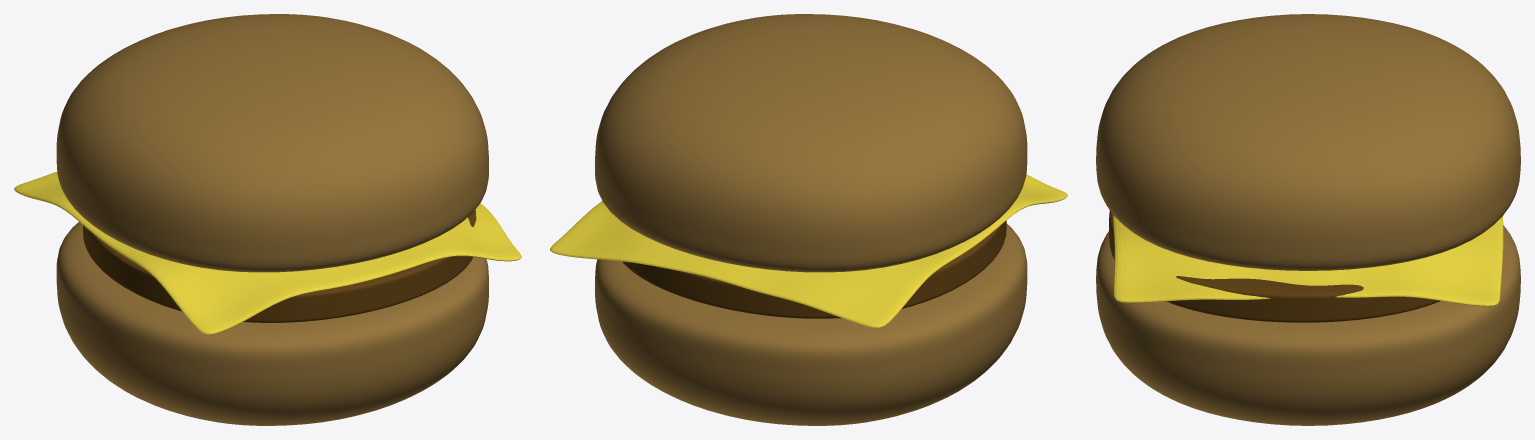
File: HamburgerWithCompression.glb
The picture shows the model from 3 angles, left to right: view 1: azimuth 30°, elevation 25°; view 2: azimuth 150°, elevation 25°; view 3: azimuth 270°, elevation 25°; orthographic projection.
Visible parts, largest first — view 1: Top Bun, Bottom Bun, Cheese, Patty; view 2: Top Bun, Bottom Bun, Cheese, Patty; view 3: Top Bun, Bottom Bun, Cheese, Patty.
Part boxes in pixels (<box>): Top Bun: <box>56,14,488,272</box>; Bottom Bun: <box>56,222,488,425</box>; Cheese: <box>14,171,521,334</box>; Patty: <box>83,210,476,322</box>; Top Bun: <box>595,14,1027,272</box>; Bottom Bun: <box>595,223,1027,425</box>; Cheese: <box>550,174,1067,328</box>; Patty: <box>622,220,1006,318</box>; Top Bun: <box>1096,14,1520,270</box>; Bottom Bun: <box>1096,225,1520,425</box>; Cheese: <box>1113,215,1503,306</box>; Patty: <box>1109,210,1440,322</box>.
Bounding box in the file's own units: 9.17 × 7.6 × 9.17.
